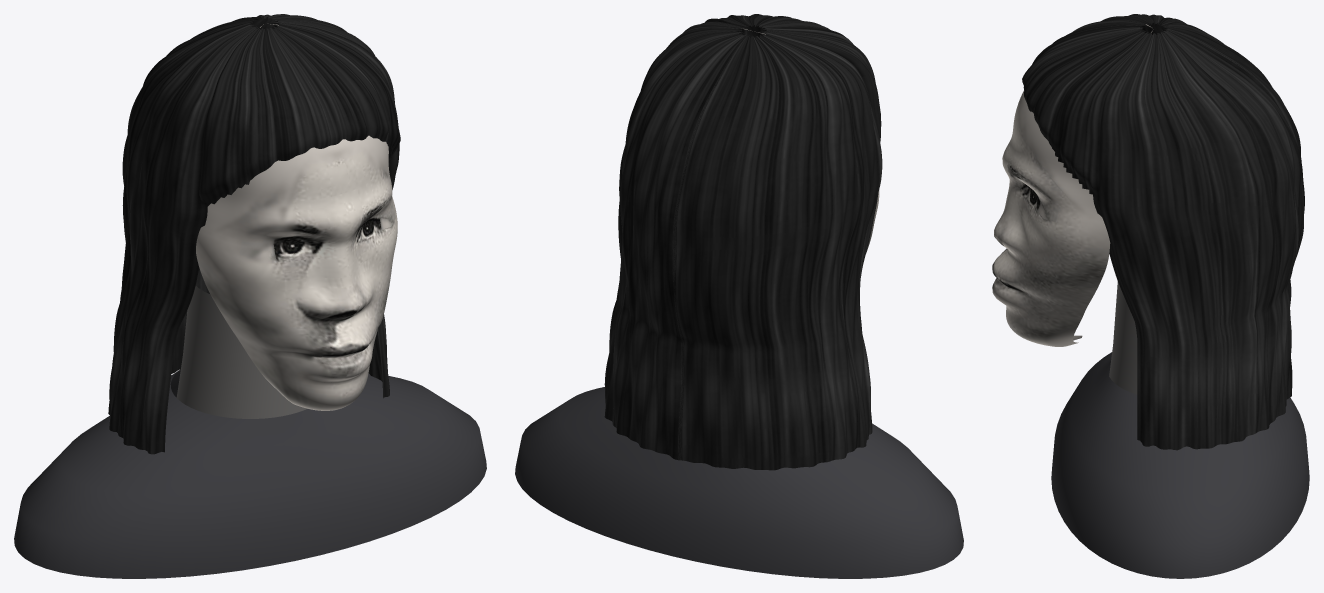
File: mercedes_sosa_face.glb
The picture shows the model from 3 angles, left to right: view 1: azimuth 30°, elevation 25°; view 2: azimuth 150°, elevation 25°; view 3: azimuth 270°, elevation 25°; orthographic projection. The views are drawn at different scales.
Visible parts, largest first — view 1: shoulders, hair, face, neck; view 2: hair, shoulders; view 3: hair, shoulders, face, neck.
Boxes of the visible parts, left/top/right/bottom form: shoulders: left=14, top=369, right=486, bottom=578; hair: left=108, top=14, right=400, bottom=454; face: left=196, top=24, right=397, bottom=410; neck: left=176, top=286, right=307, bottom=418; hair: left=604, top=14, right=882, bottom=470; shoulders: left=515, top=387, right=963, bottom=578; hair: left=1022, top=14, right=1304, bottom=450; shoulders: left=1051, top=352, right=1309, bottom=578; face: left=992, top=24, right=1152, bottom=346; neck: left=1109, top=281, right=1137, bottom=394.
Size of the model in its own units: 0.34 by 0.353 by 0.2261.
Materials: 4 (2 with a texture image).
